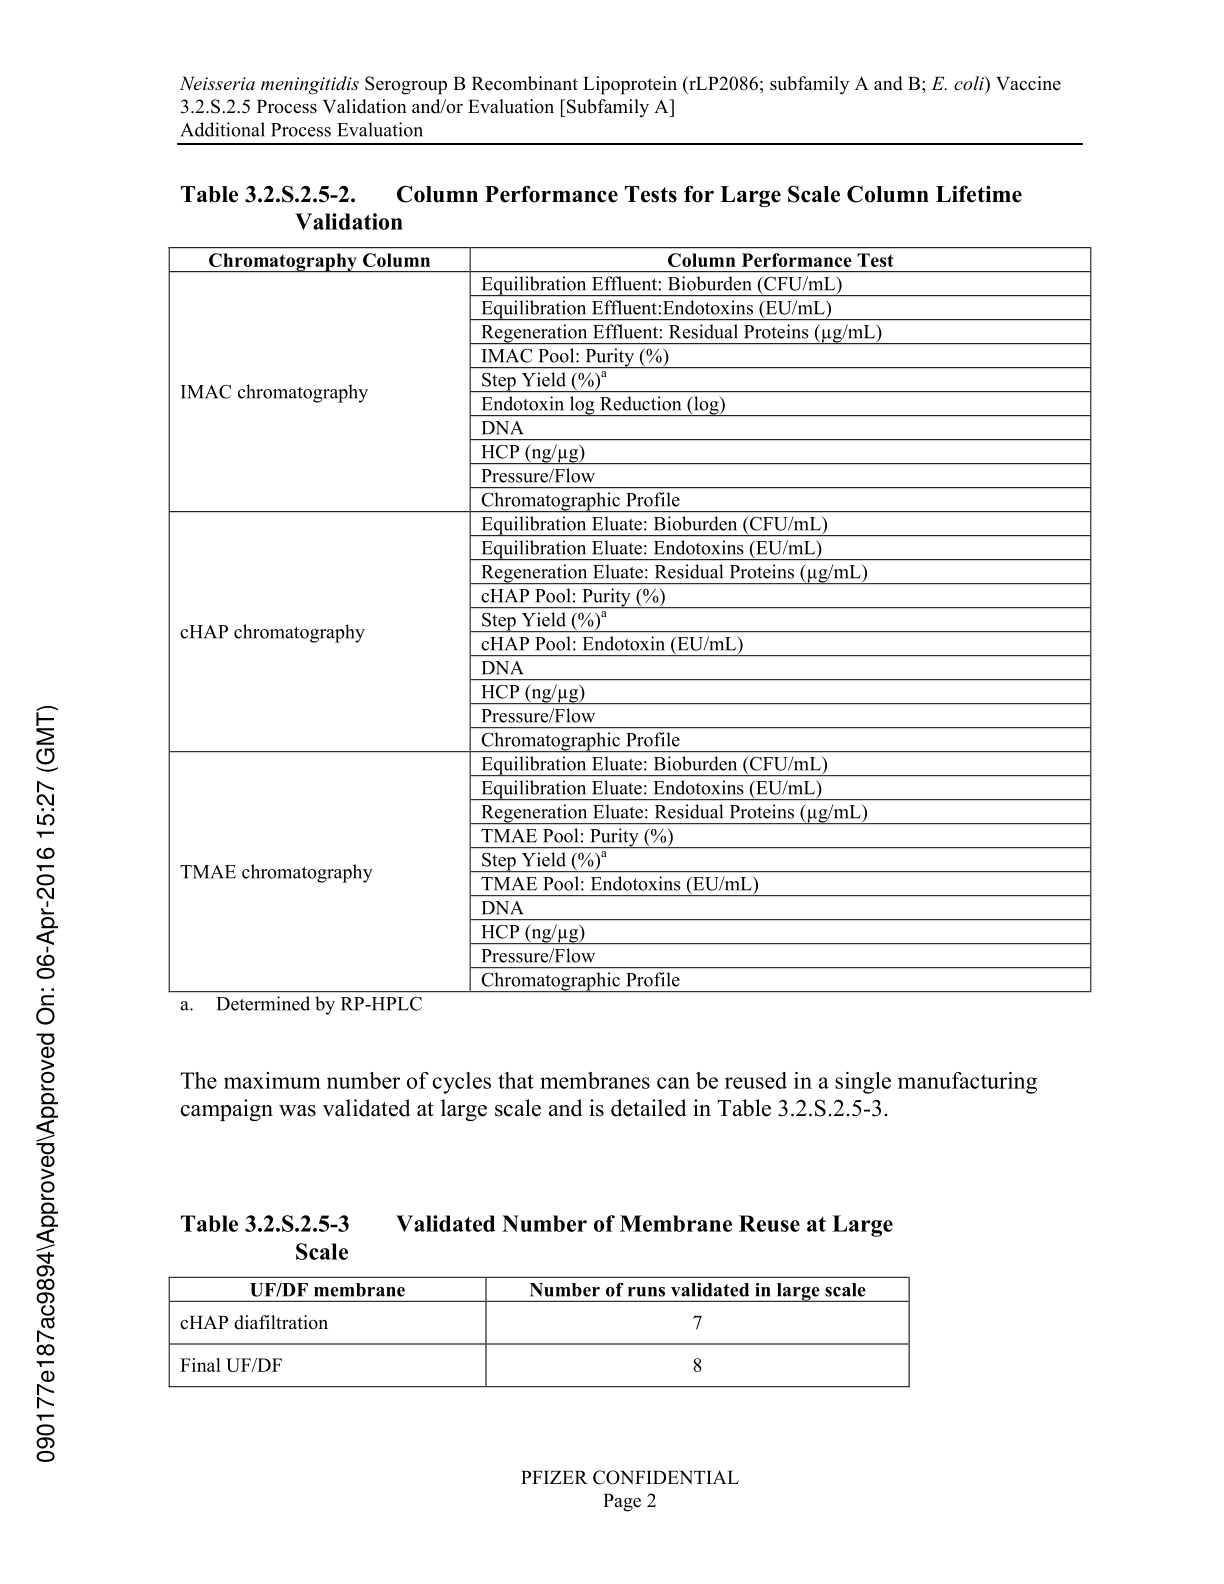full_lined: (168, 1275, 912, 1389)
merged_cells: (167, 246, 1092, 994)
